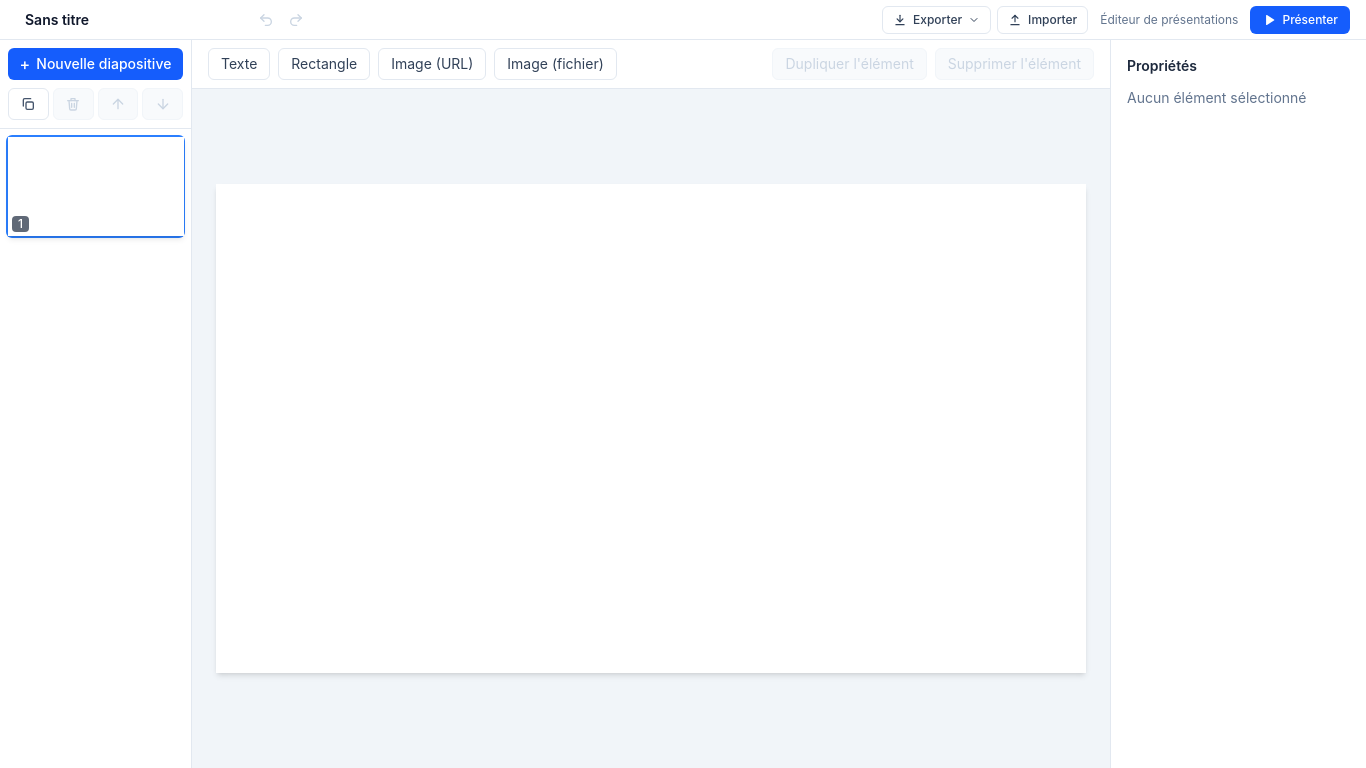
EditorLayout : opacité › le curseur change le style opacity de l'élément
This screenshot has width=1366, height=768.
Click the button "Rectangle" at [324, 64], box top-left (278, 48), bottom-right (370, 80)
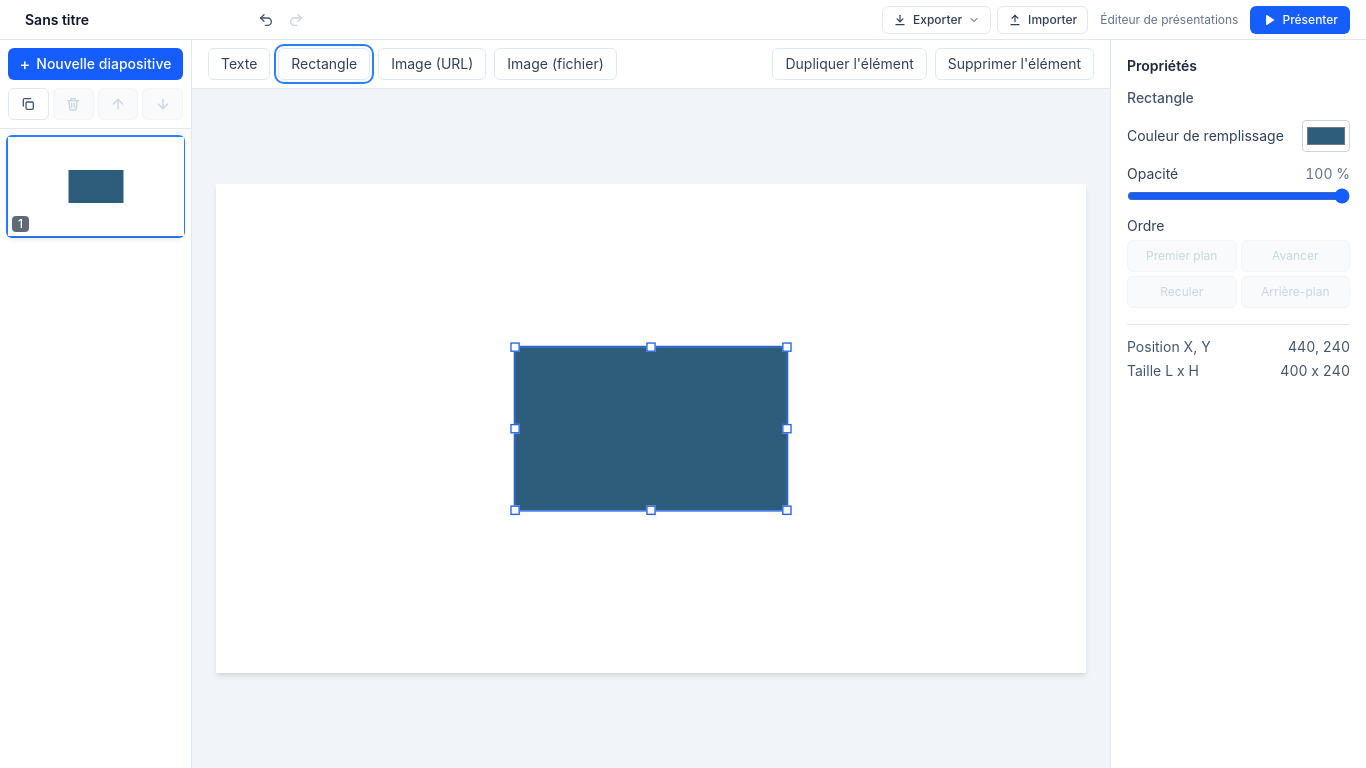
Set the slider labelled "Opacité" to "40" at [1218, 196], box top-left (1127, 188), bottom-right (1350, 204)
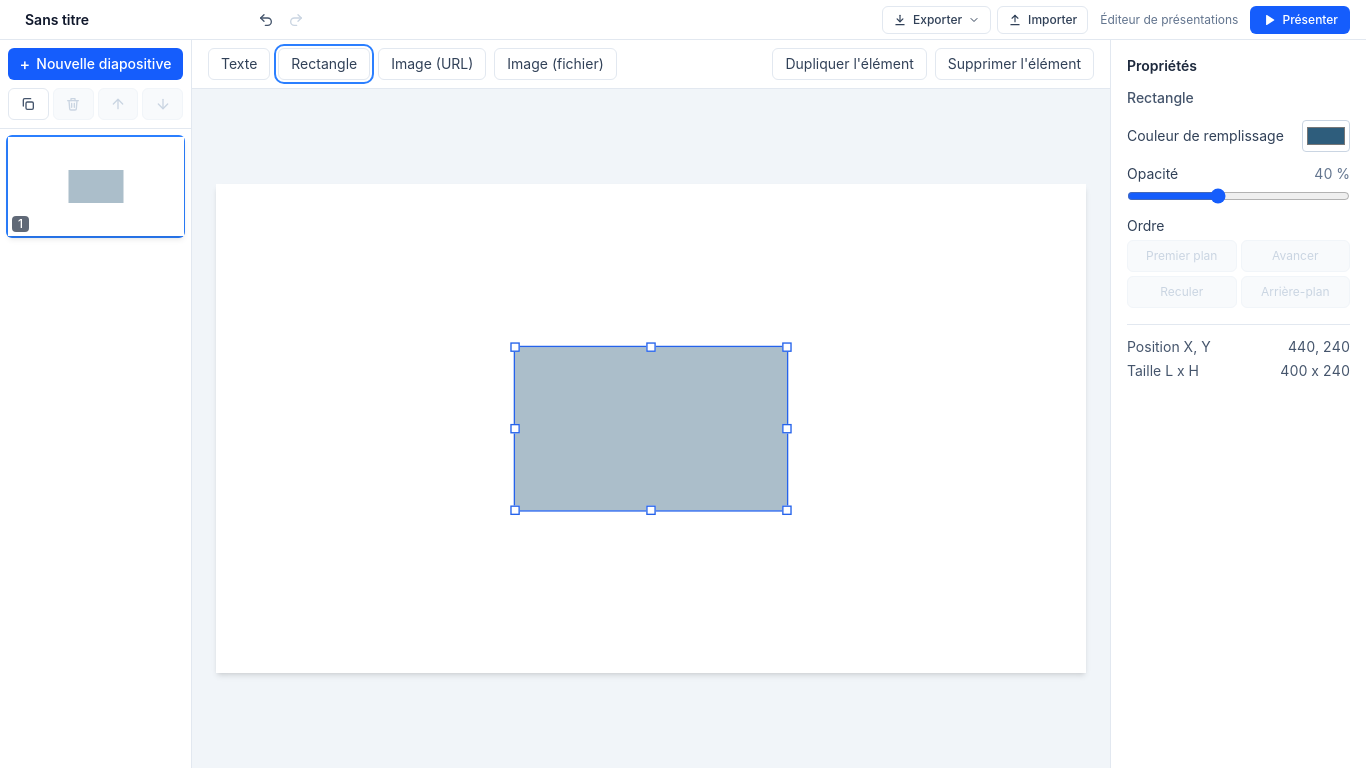
Expected: the text "40 %" is shown, top-left (1314, 164), bottom-right (1350, 184)
